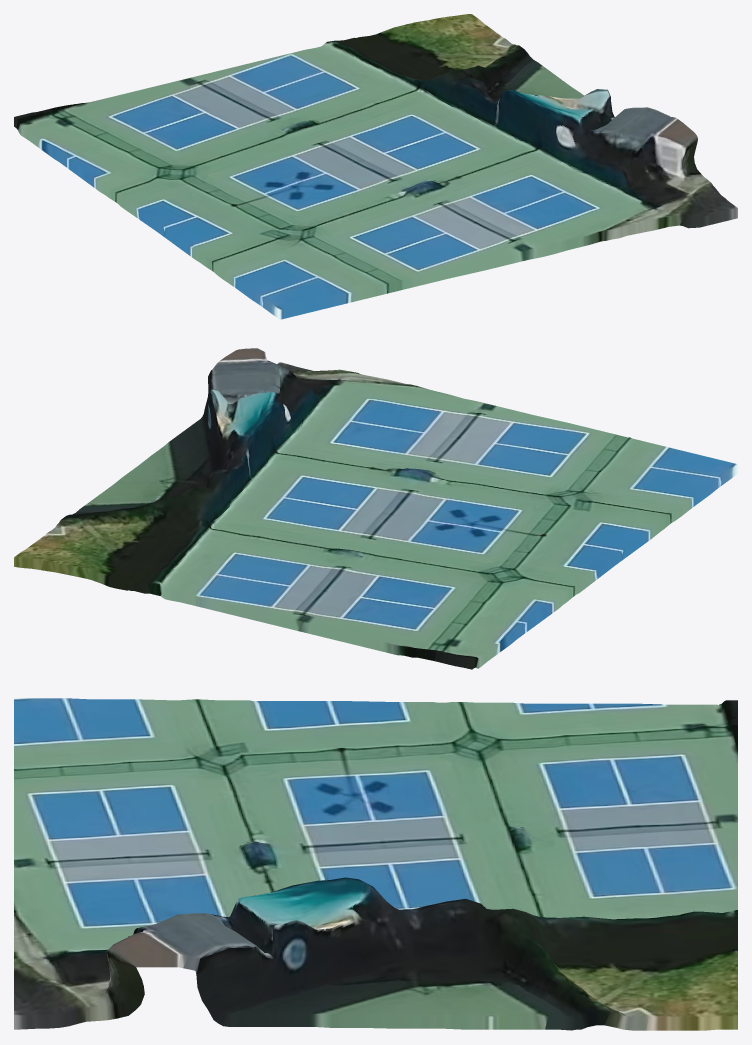
File: z20-167780-405211-h0-yup-uvflip-v3-world.glb
3 renders of one model, top to bottom at view 1: azimuth 30°, elevation 25°; view 2: azimuth 150°, elevation 25°; view 3: azimuth 270°, elevation 25°, orthographic. The views are drawn at different scales.
Size of the model in its own units: 30.16 by 4 by 30.32.
1 material, 1 textured.
